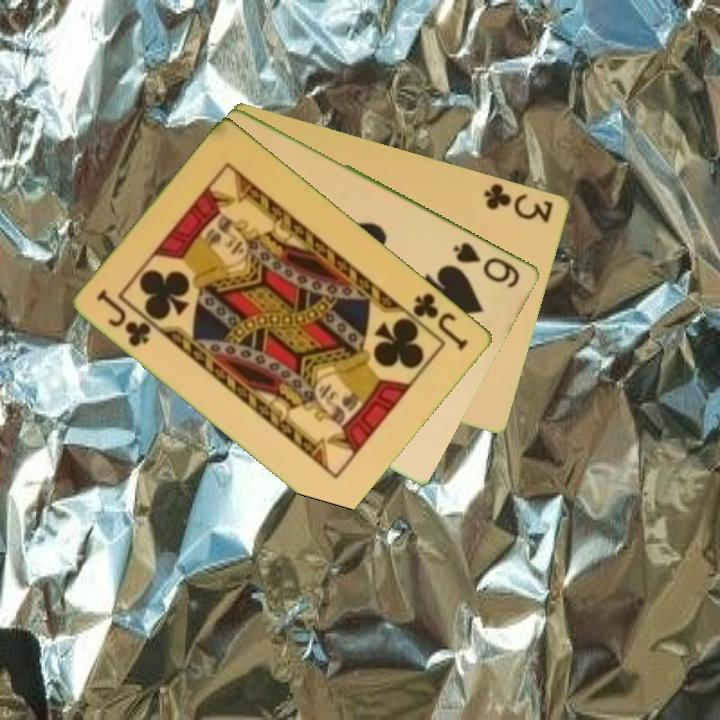3c: (481, 179, 557, 226)
6s: (449, 238, 524, 291)
Jc: (410, 289, 472, 354), (93, 285, 155, 350)
